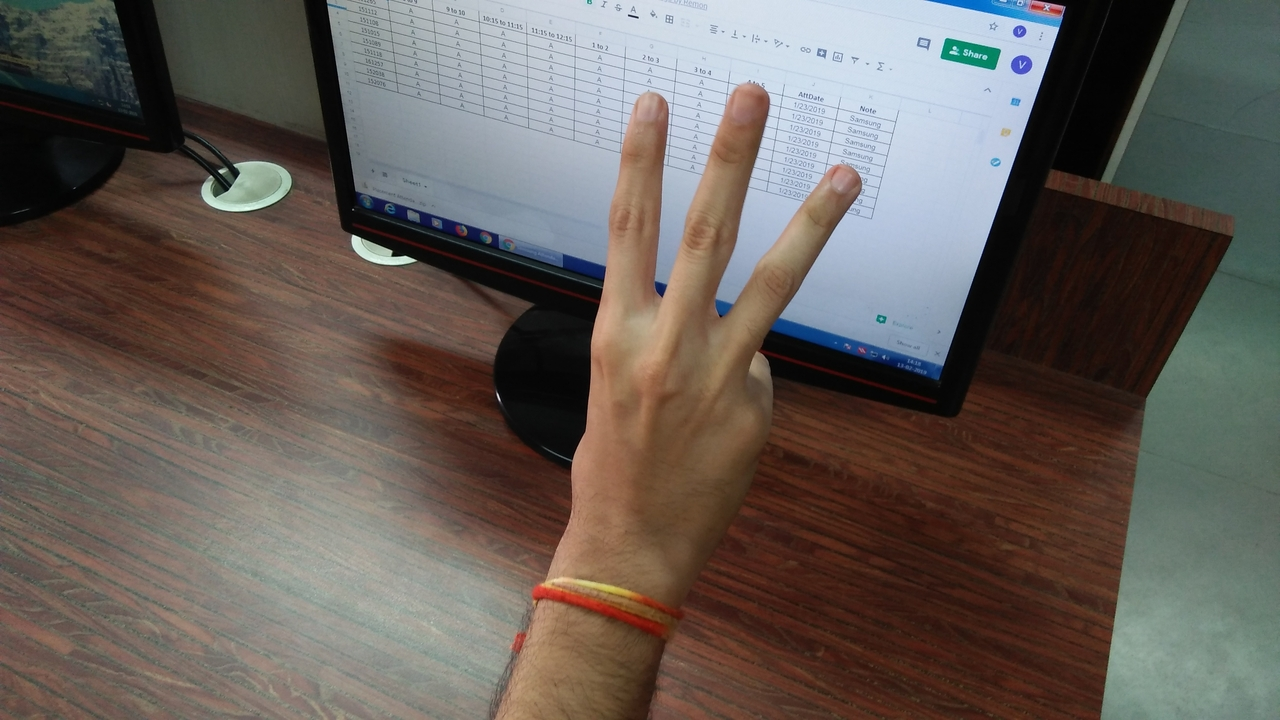fingertip: (808, 152, 872, 206), (718, 80, 774, 128), (618, 84, 676, 130)
